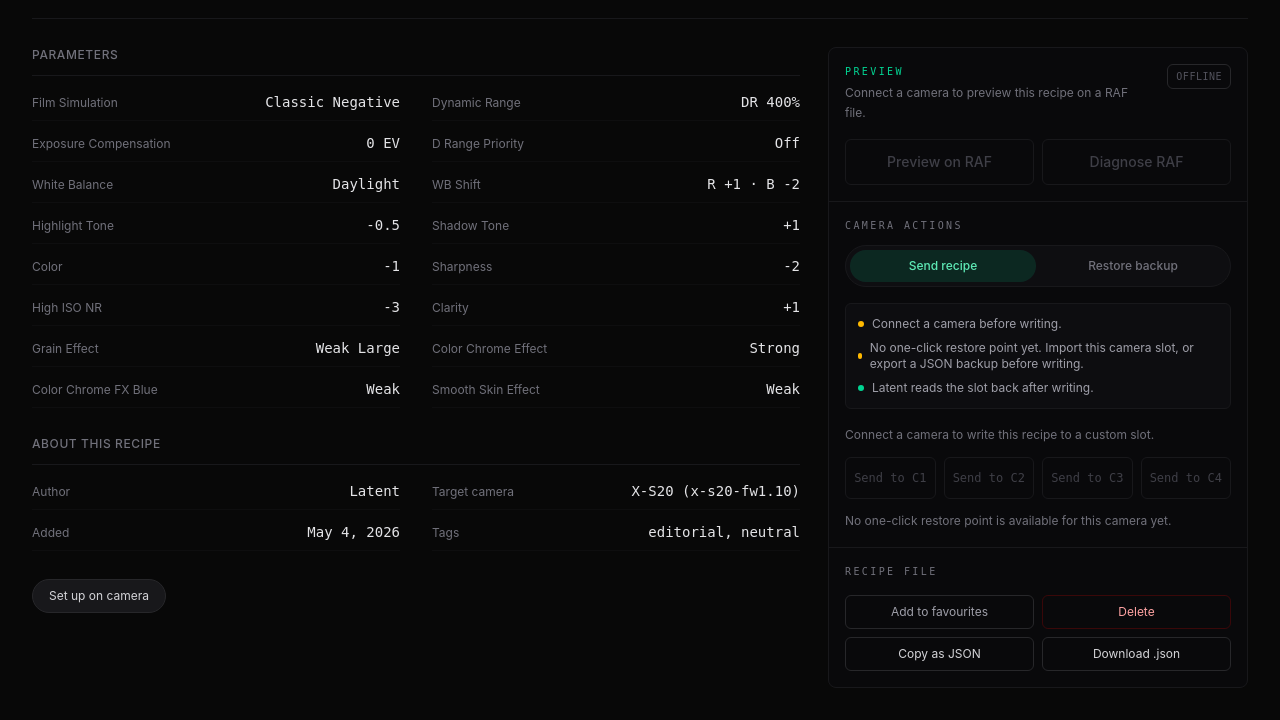
it: <RecipeDetail /> › toggles the camera setup walkthrough
(page scrolled)
Check: the text "follow these steps" is not shown
What coordinates should you click on to do the following:
click the button "Set up on camera"
I would click on:
 (99, 596)
Its box is [32,579,166,613].
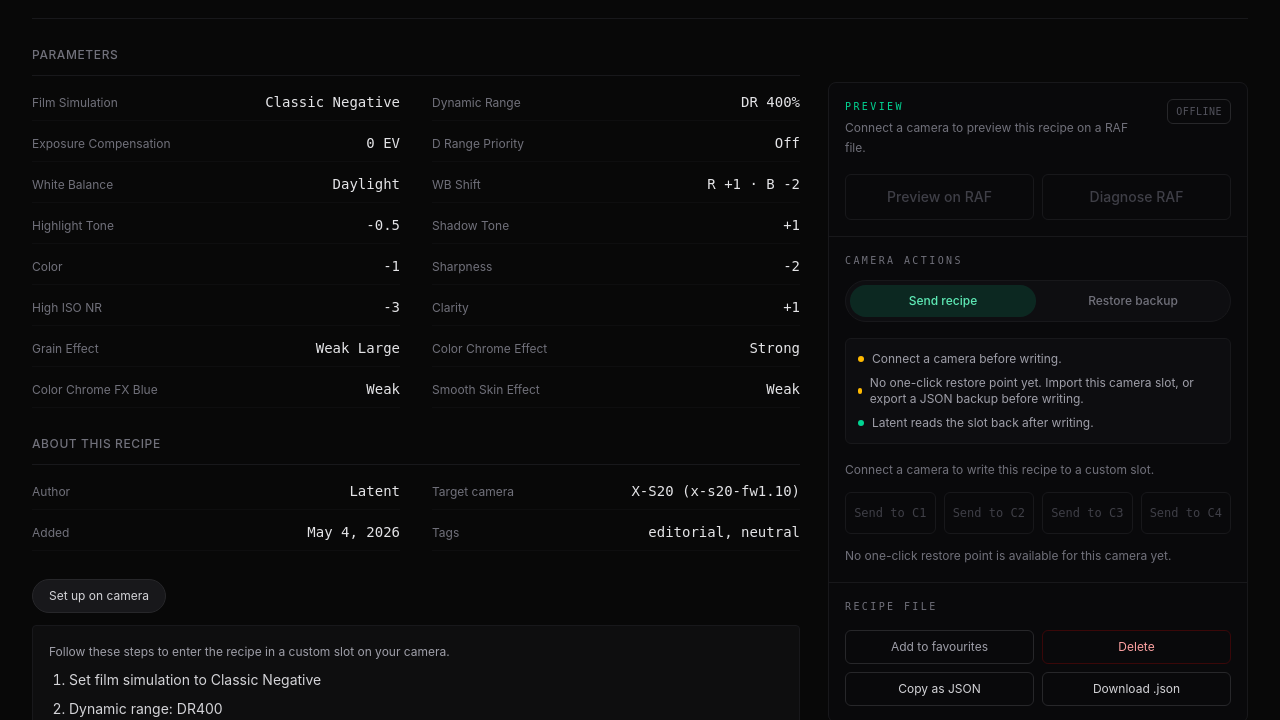
Check: the text "Follow these steps" is shown, box [49,644,450,659]
